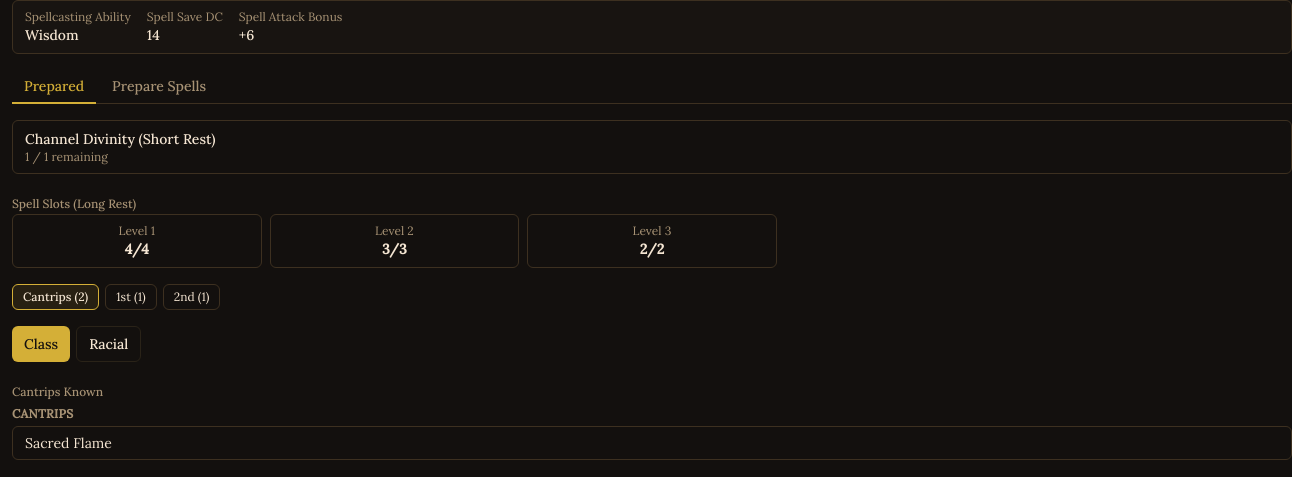
Test case: ClericSheet — unified Spells tab layout › shows no source toggle at a level where only the class has spells
Click the button with test id "spell-level-tab-1" at (131, 297), box [105,284,157,310]
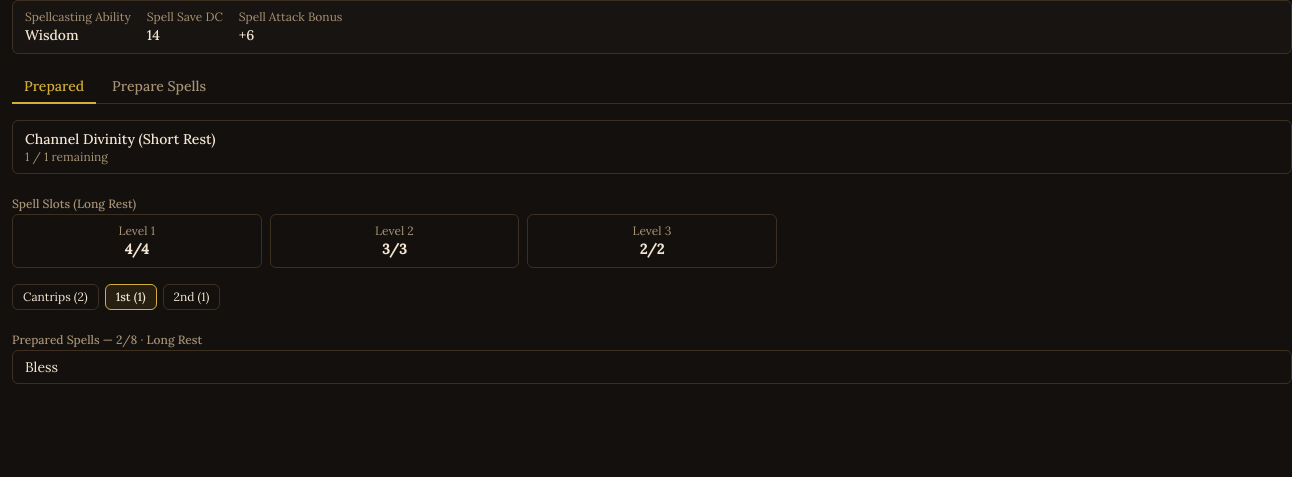
Check: the button with test id "spell-source-racial" is gone
